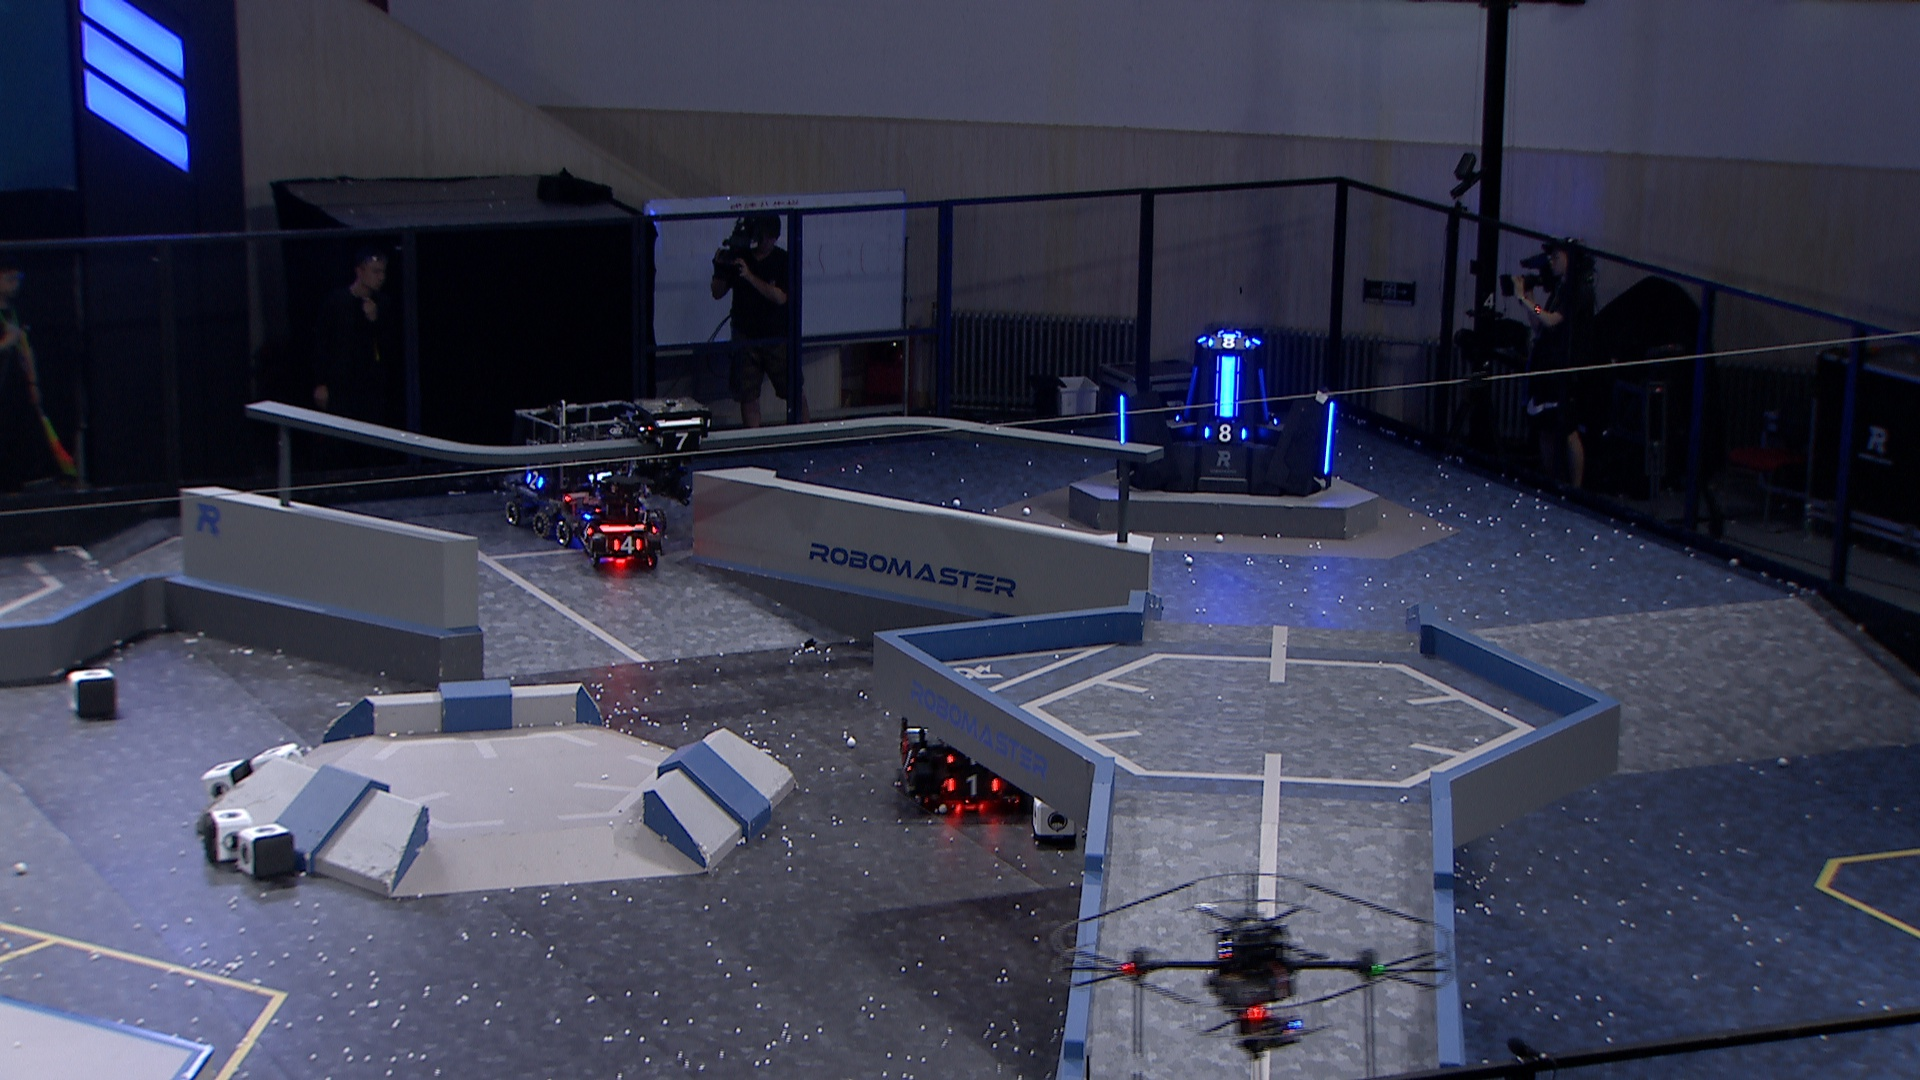armor: (940, 773, 1006, 800), (1215, 353, 1240, 422), (1179, 367, 1203, 425), (1323, 400, 1338, 479), (1257, 367, 1275, 425), (1200, 422, 1247, 444), (657, 433, 704, 454), (1207, 334, 1253, 353), (1116, 392, 1129, 448), (611, 535, 644, 556), (898, 745, 916, 777), (524, 471, 546, 491), (579, 520, 596, 545)
base: (1112, 328, 1342, 500)
car: (884, 655, 1046, 816), (498, 400, 650, 549), (572, 476, 667, 570)
watcher: (628, 396, 712, 505)
